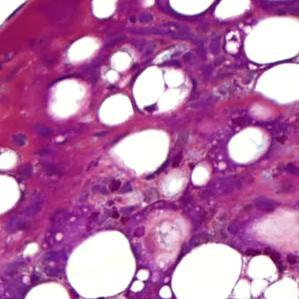steatosis: (66, 233, 135, 290), (110, 128, 174, 178), (223, 123, 269, 173)
